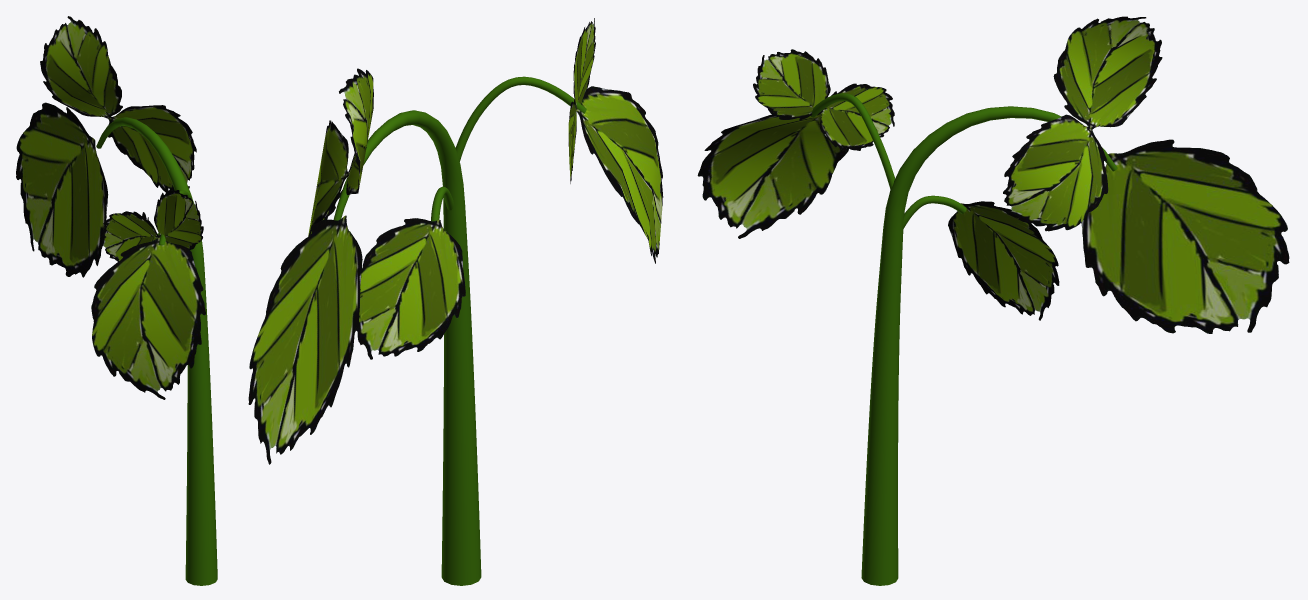
File: Tree.FBX
3 views of the same model, side by side, from view 1: azimuth 30°, elevation 25°; view 2: azimuth 150°, elevation 25°; view 3: azimuth 270°, elevation 25° (orthographic). The views are drawn at different scales.
Parts seen in each view (by area): view 1: Box022, Box019, Cone002, Box028, Box029, Box023, Box024; view 2: Box019, Cone002, Box026, Box022, Box028, Box029, Line008, Box023; view 3: Box019, Cone002, Box022, Box028, Box029, Box026, Box023, Box024, Line008.
Boxes of the visible parts, bbox=[...] form: Box022: bbox=[91, 238, 205, 399]; Box019: bbox=[16, 102, 108, 277]; Cone002: bbox=[96, 117, 217, 585]; Box028: bbox=[40, 16, 122, 118]; Box029: bbox=[108, 105, 196, 192]; Box023: bbox=[154, 189, 203, 249]; Box024: bbox=[100, 211, 160, 261]; Box019: bbox=[248, 215, 362, 464]; Cone002: bbox=[333, 110, 481, 585]; Box026: bbox=[357, 218, 465, 359]; Box022: bbox=[576, 86, 663, 263]; Box028: bbox=[339, 68, 373, 195]; Box029: bbox=[308, 120, 348, 236]; Line008: bbox=[431, 76, 586, 225]; Box023: bbox=[573, 18, 595, 107]; Box019: bbox=[1081, 139, 1289, 333]; Cone002: bbox=[861, 106, 1117, 585]; Box022: bbox=[697, 112, 848, 238]; Box028: bbox=[1053, 16, 1162, 129]; Box029: bbox=[1003, 114, 1108, 231]; Box026: bbox=[948, 201, 1059, 320]; Box023: bbox=[753, 49, 830, 120]; Box024: bbox=[820, 83, 894, 151]; Line008: bbox=[811, 93, 966, 229].
Size of the model in its own units: 240 by 602 by 586.
